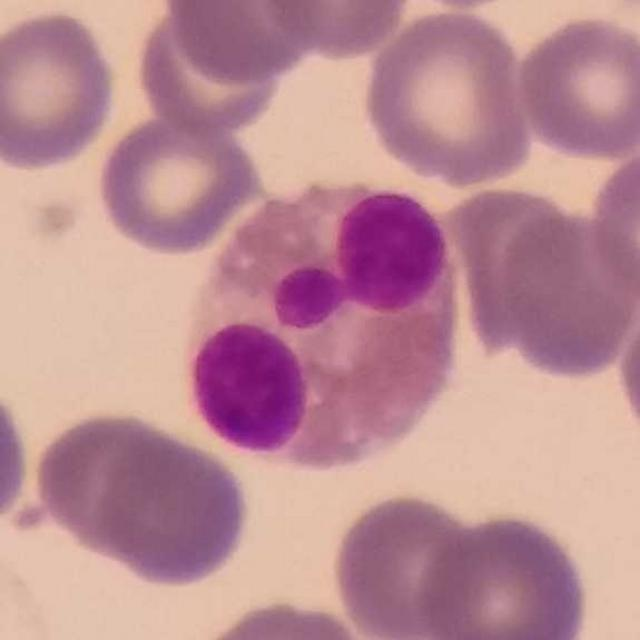eosino: (185, 182, 461, 472)
